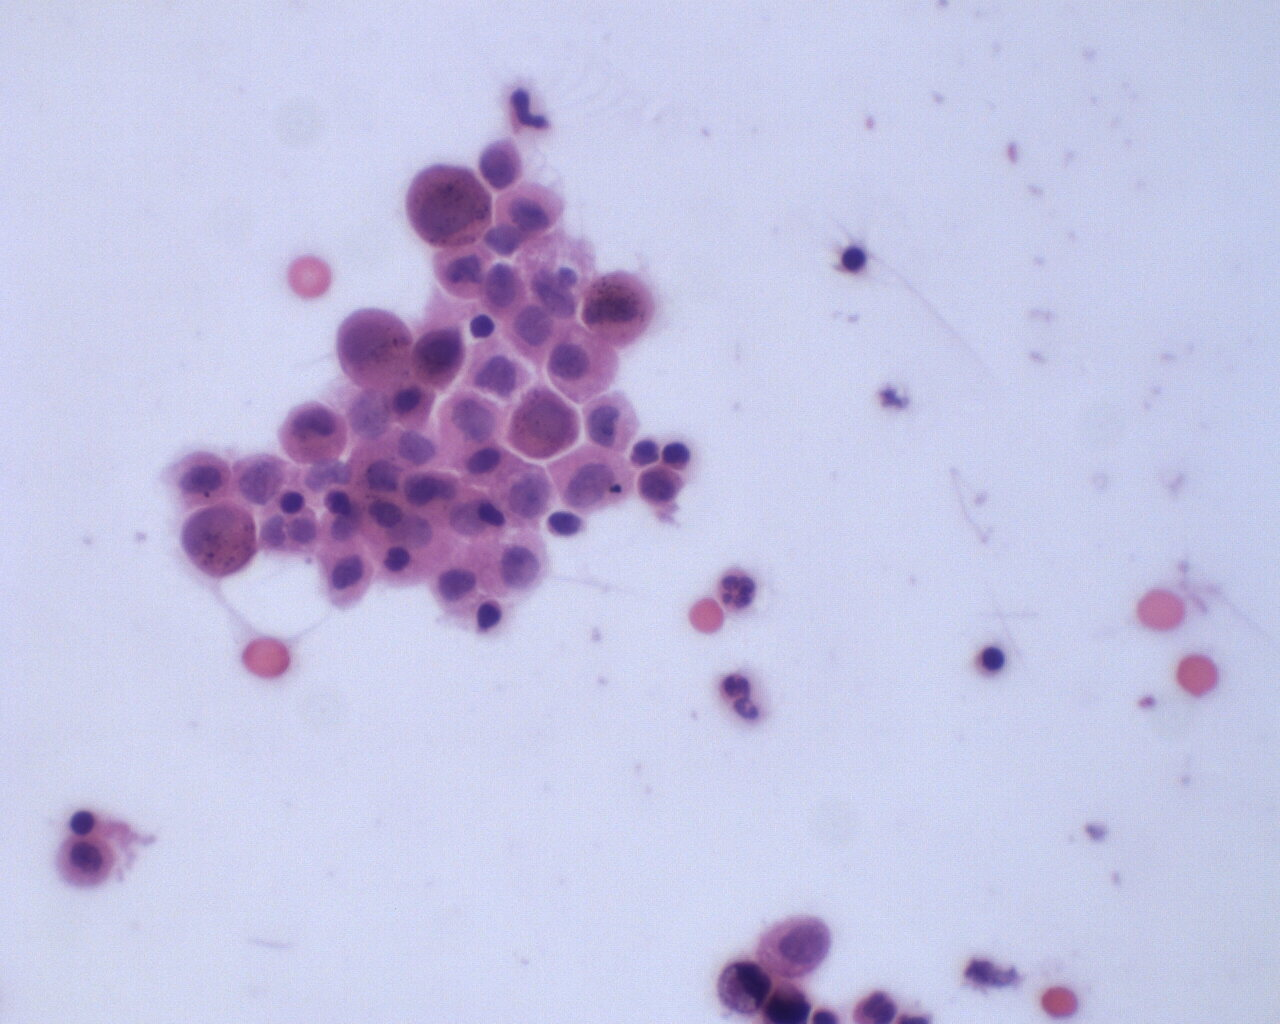ab: (400, 161, 496, 249), (180, 502, 259, 585), (580, 266, 656, 346), (506, 383, 584, 460), (412, 323, 469, 390), (635, 461, 686, 505)
lymph: (973, 639, 1009, 679), (466, 310, 497, 342), (840, 240, 868, 275)
meso: (754, 910, 834, 981), (55, 831, 119, 893)
neutro: (713, 562, 760, 616), (718, 668, 754, 705)
